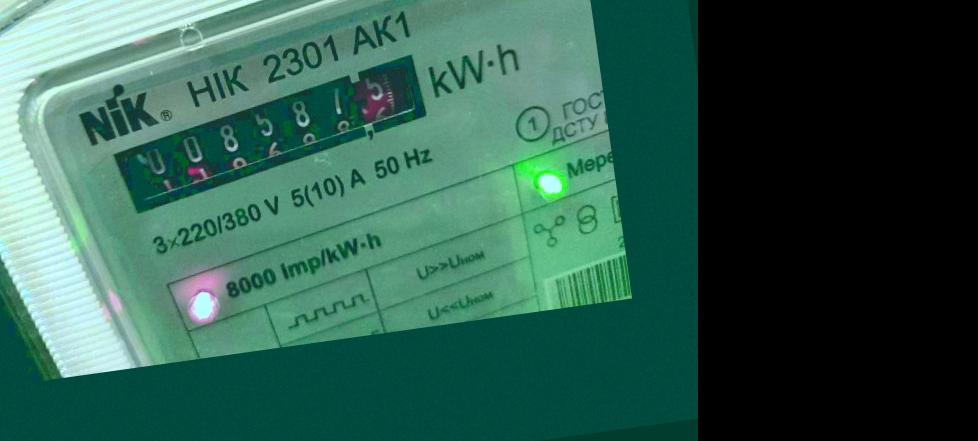0: (177, 128, 208, 165), (141, 141, 171, 176)
5: (251, 105, 278, 138), (361, 67, 387, 101)
6: (370, 102, 391, 121)
7: (323, 81, 350, 118)
8: (215, 119, 244, 154), (287, 94, 314, 129)
screen: (97, 48, 457, 217)
